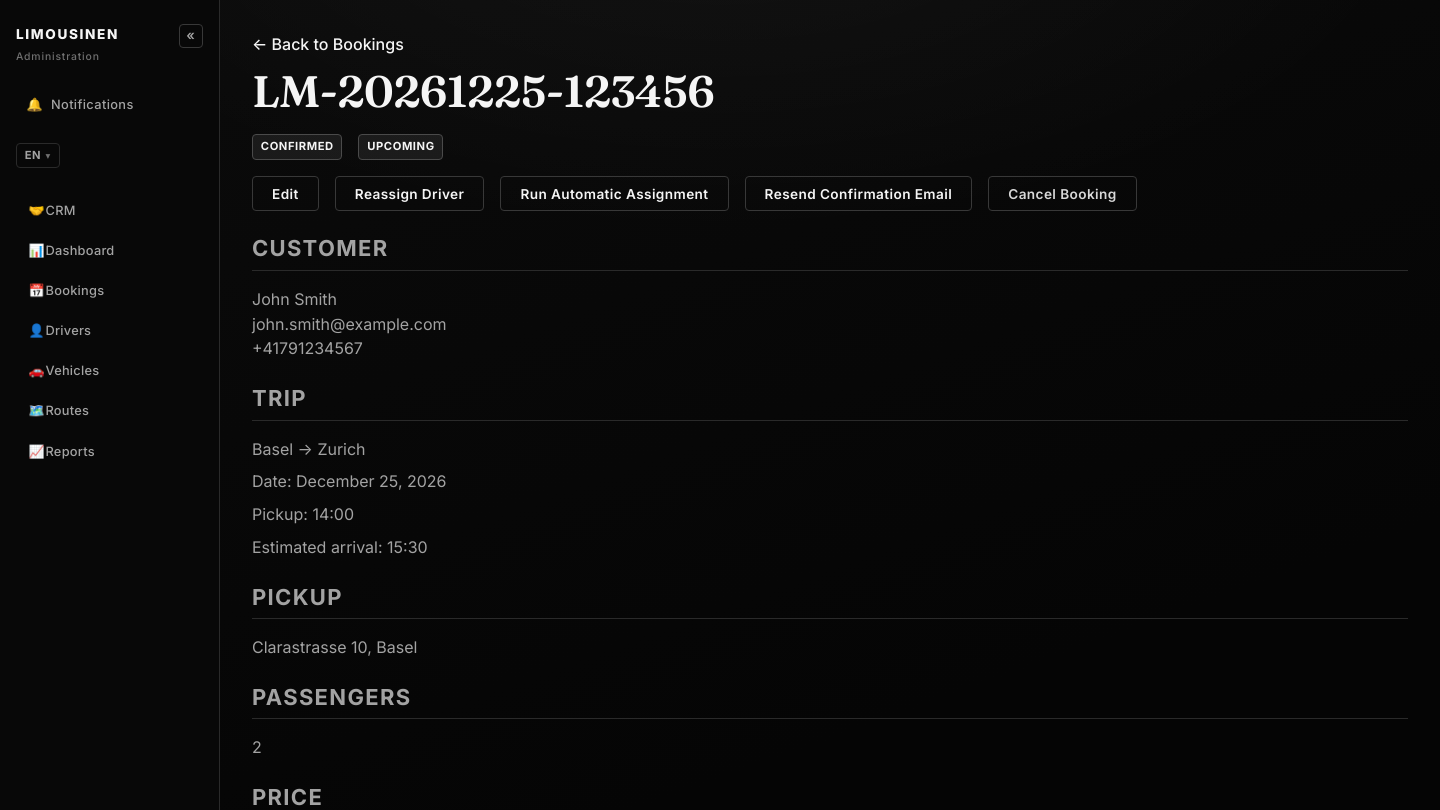
Test: BookingDetailPage › resends the confirmation email for a confirmed booking
This screenshot has width=1440, height=810.
Expected: the heading "LM-20261225-123456" is shown, [252,64,714,118]
Click the button "Resend Confirmation Email" at (858, 194), box [745,176,972,211]
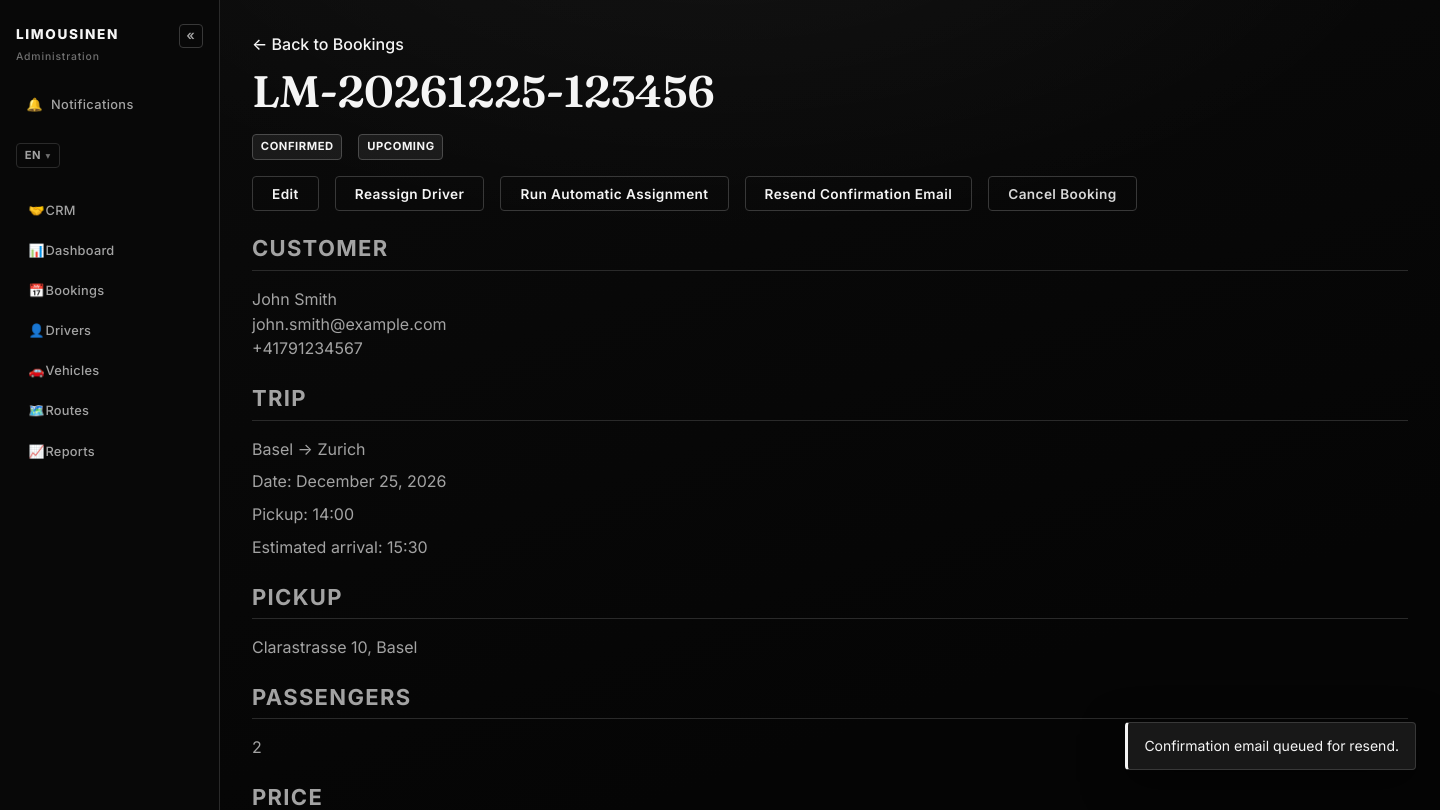
Expected: the message reads "Confirmation email queued for resend.", [1144,737,1399,754]
